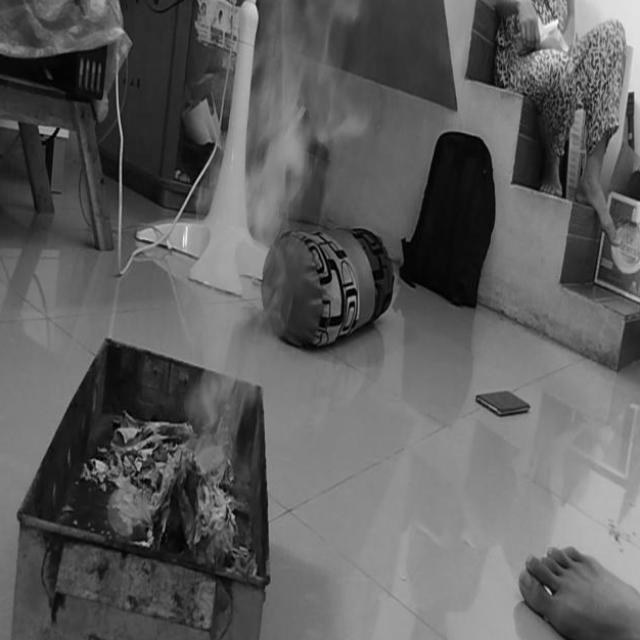fire: (204, 0, 318, 249), (186, 251, 264, 456)
